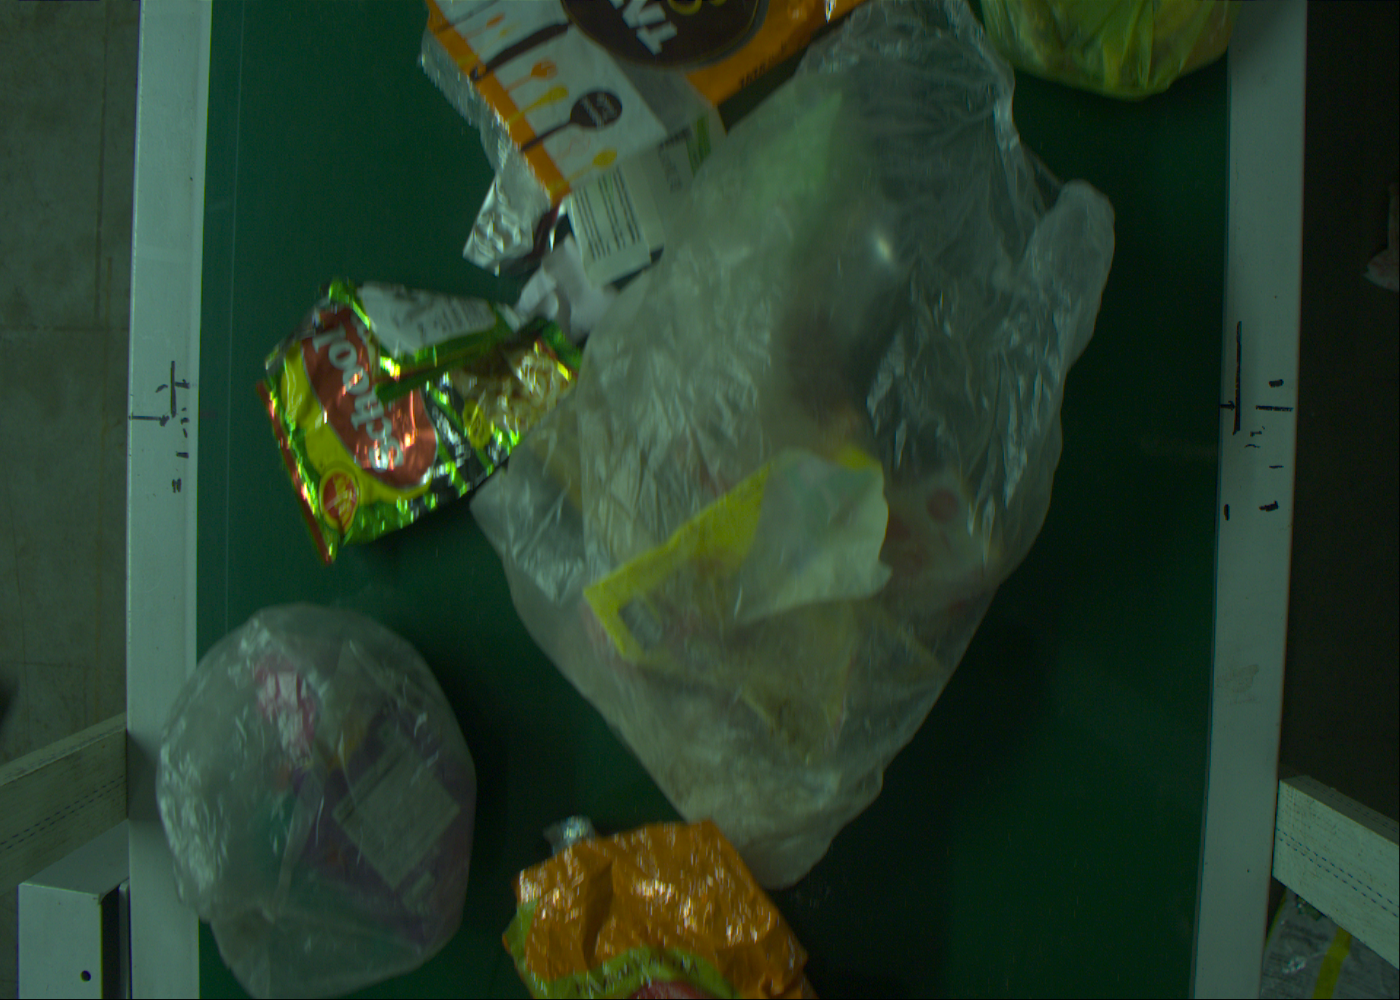hm_ldpe: (154, 587, 475, 991)
multilayer_plastic: (235, 286, 573, 554), (513, 821, 827, 995)
pp_w: (547, 22, 1065, 663)
